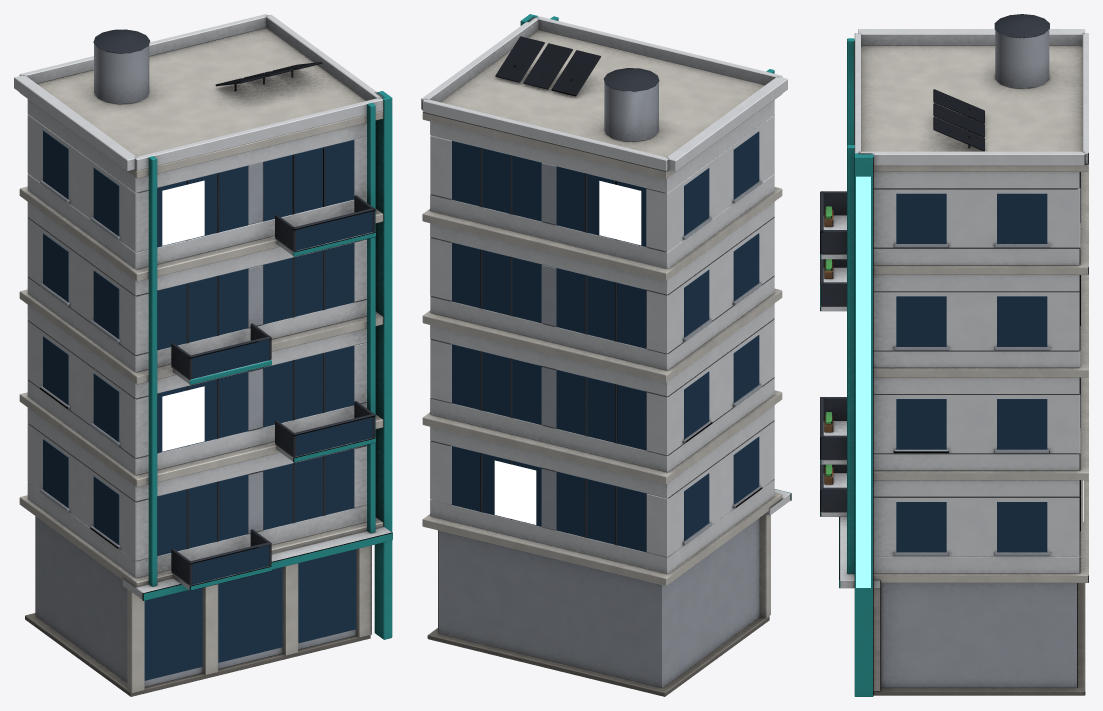
Rendered from Edificio_Residencial.fbx.
3 views of the same model, side by side, from view 1: azimuth 30°, elevation 25°; view 2: azimuth 150°, elevation 25°; view 3: azimuth 270°, elevation 25° (orthographic).
Visible parts, largest first — view 1: Edificio_Residencial, Edificio_Residencial_Cristal, Edificio_Residencial_Neon; view 2: Edificio_Residencial, Edificio_Residencial_Cristal, Edificio_Residencial_Neon; view 3: Edificio_Residencial, Edificio_Residencial_Cristal, Edificio_Residencial_Neon.
Boxes of the visible parts, left/top/right/bottom form: Edificio_Residencial: left=14, top=14, right=392, bottom=696; Edificio_Residencial_Cristal: left=43, top=130, right=372, bottom=680; Edificio_Residencial_Neon: left=162, top=116, right=392, bottom=527; Edificio_Residencial: left=421, top=14, right=791, bottom=696; Edificio_Residencial_Cristal: left=451, top=131, right=759, bottom=552; Edificio_Residencial_Neon: left=494, top=181, right=641, bottom=524; Edificio_Residencial: left=820, top=14, right=1088, bottom=696; Edificio_Residencial_Cristal: left=896, top=193, right=1047, bottom=552; Edificio_Residencial_Neon: left=856, top=176, right=1083, bottom=587.
Bounding box in the file's own units: 6.77 × 14.5 × 5.98.
4 materials, 1 textured.
